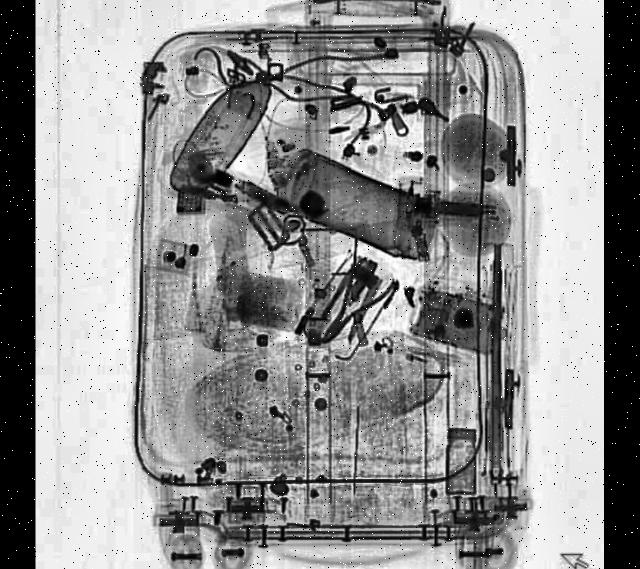Pliers: (305, 247, 396, 358)
